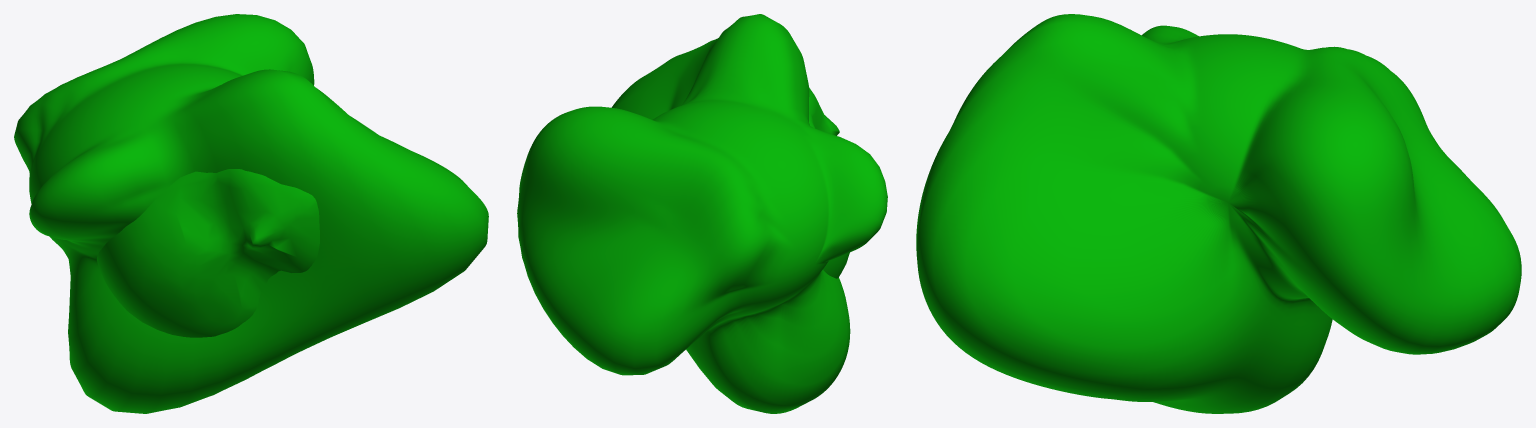
The model's file is Onbutukun_04.fbx.
The picture shows the model from 3 angles, left to right: view 1: azimuth 30°, elevation 25°; view 2: azimuth 150°, elevation 25°; view 3: azimuth 270°, elevation 25°; orthographic projection. The views are drawn at different scales.
Parts seen in each view (by area): view 1: 球.025; view 2: 球.025; view 3: 球.025.
Boxes of the visible parts, x1,y1,x2,y2 form: 球.025: (14, 14, 488, 413); 球.025: (517, 14, 887, 413); 球.025: (916, 14, 1521, 413).
Size of the model in its own units: 18.42 by 16.79 by 21.16.
